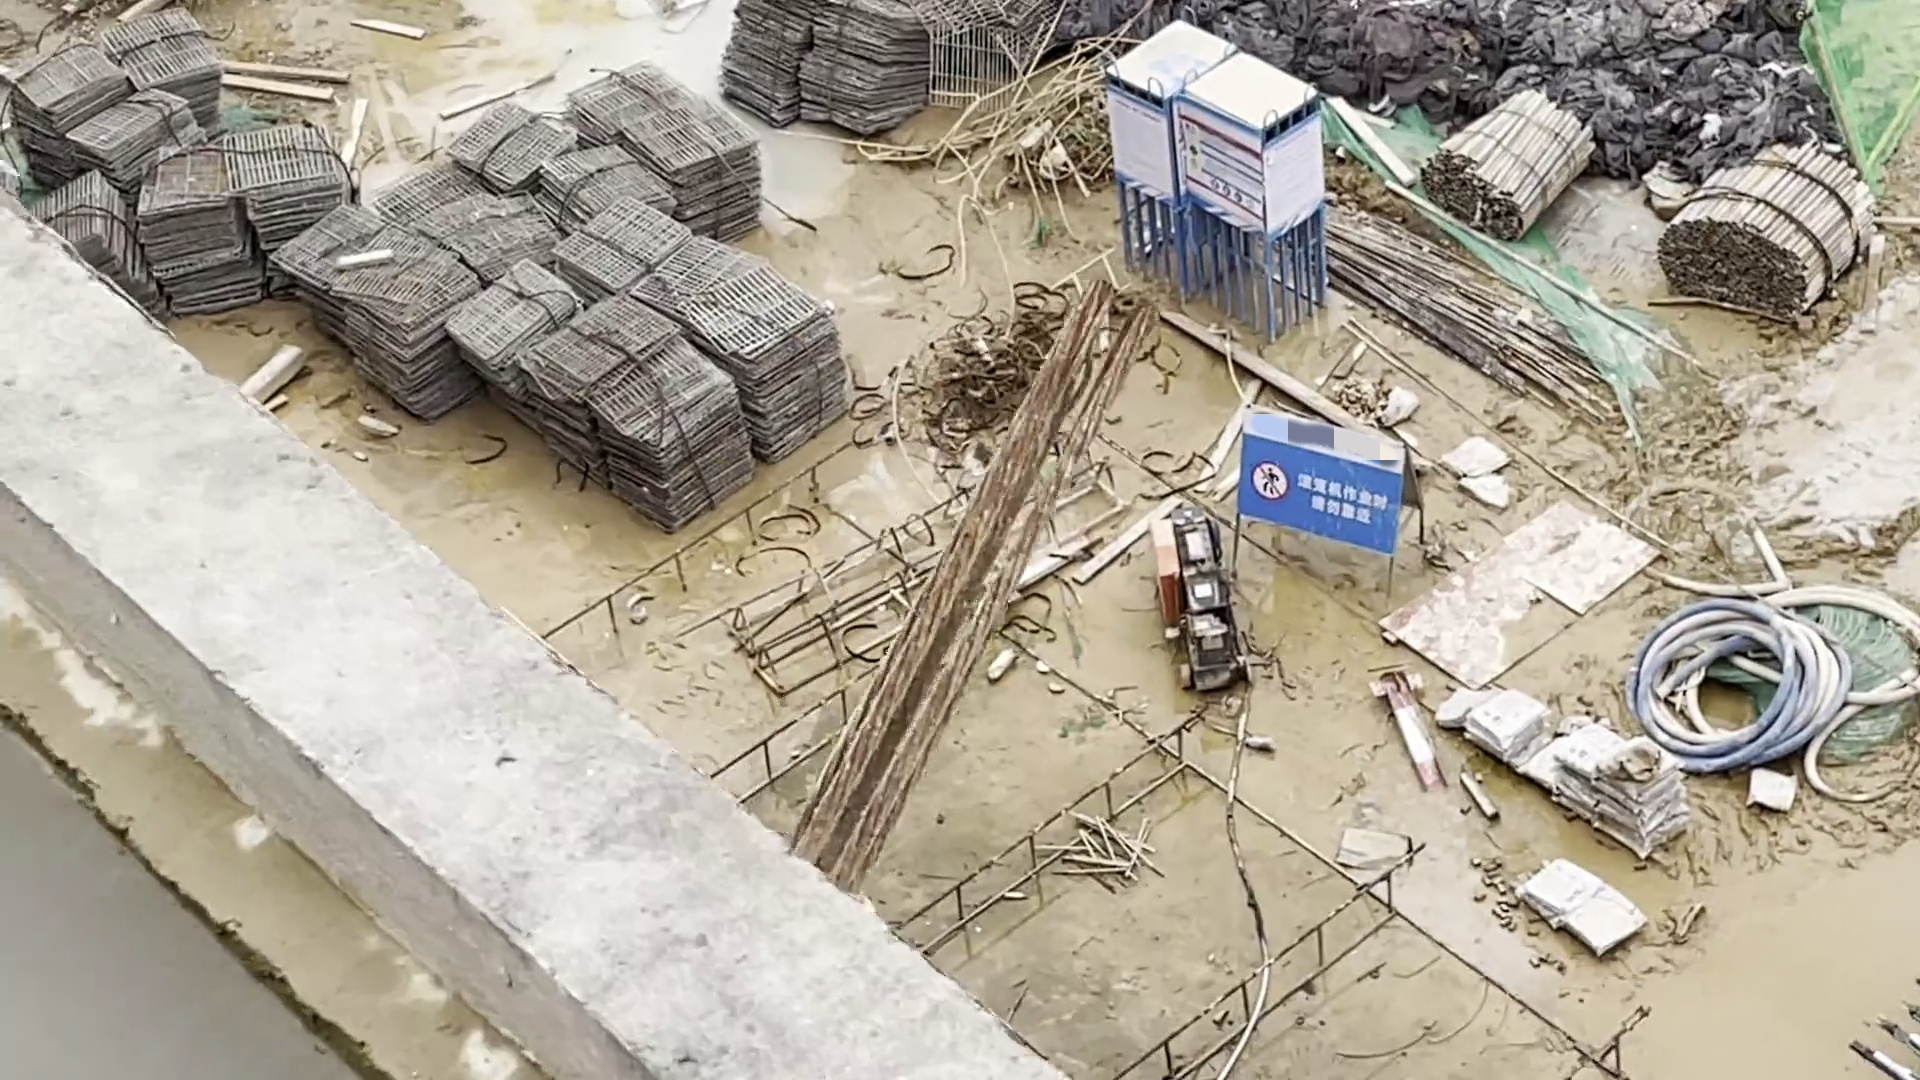slogan: (1245, 443, 1390, 530)
wood: (1664, 142, 1870, 320), (1422, 88, 1596, 237)
